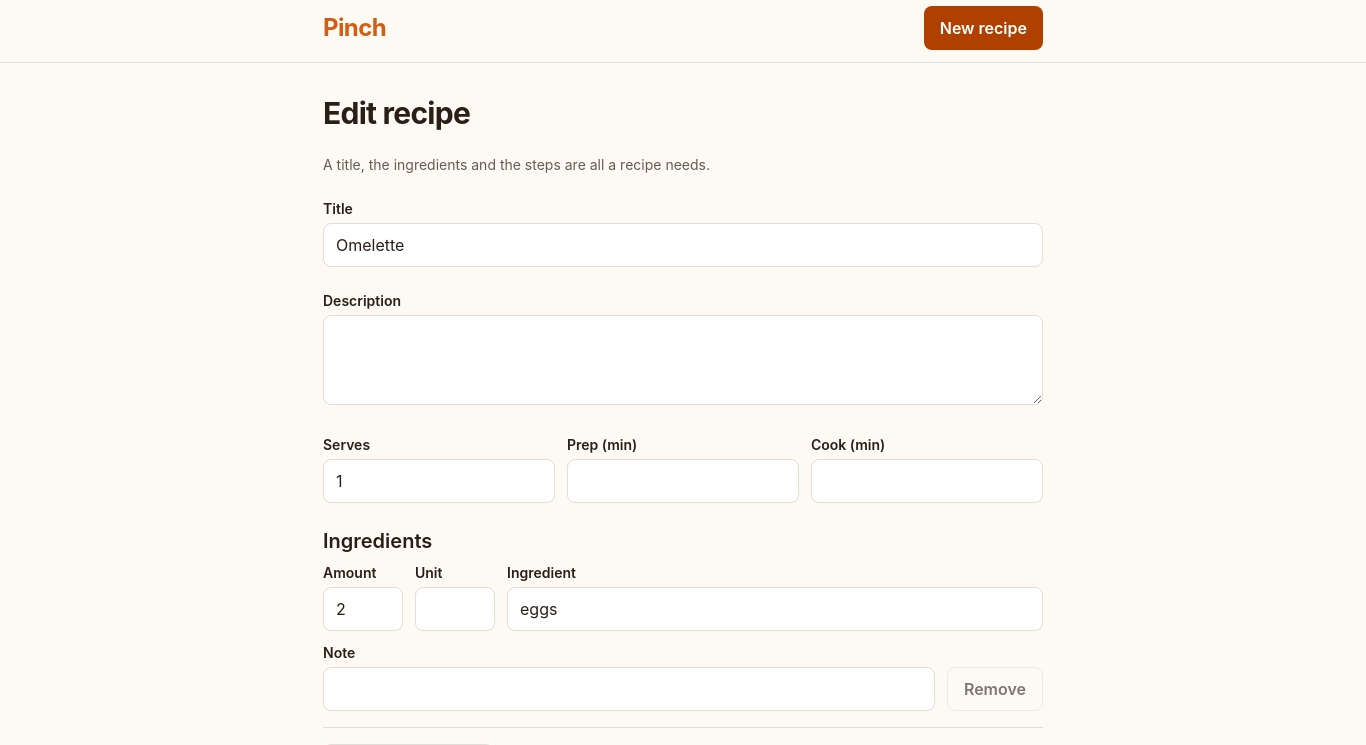
it: Cancel goes back to the recipe, unchanged
Type " with herbs" into the field labelled "Title".
click(683, 245); type(" with herbs")  # box [323, 223, 1043, 267]
(page scrolled)
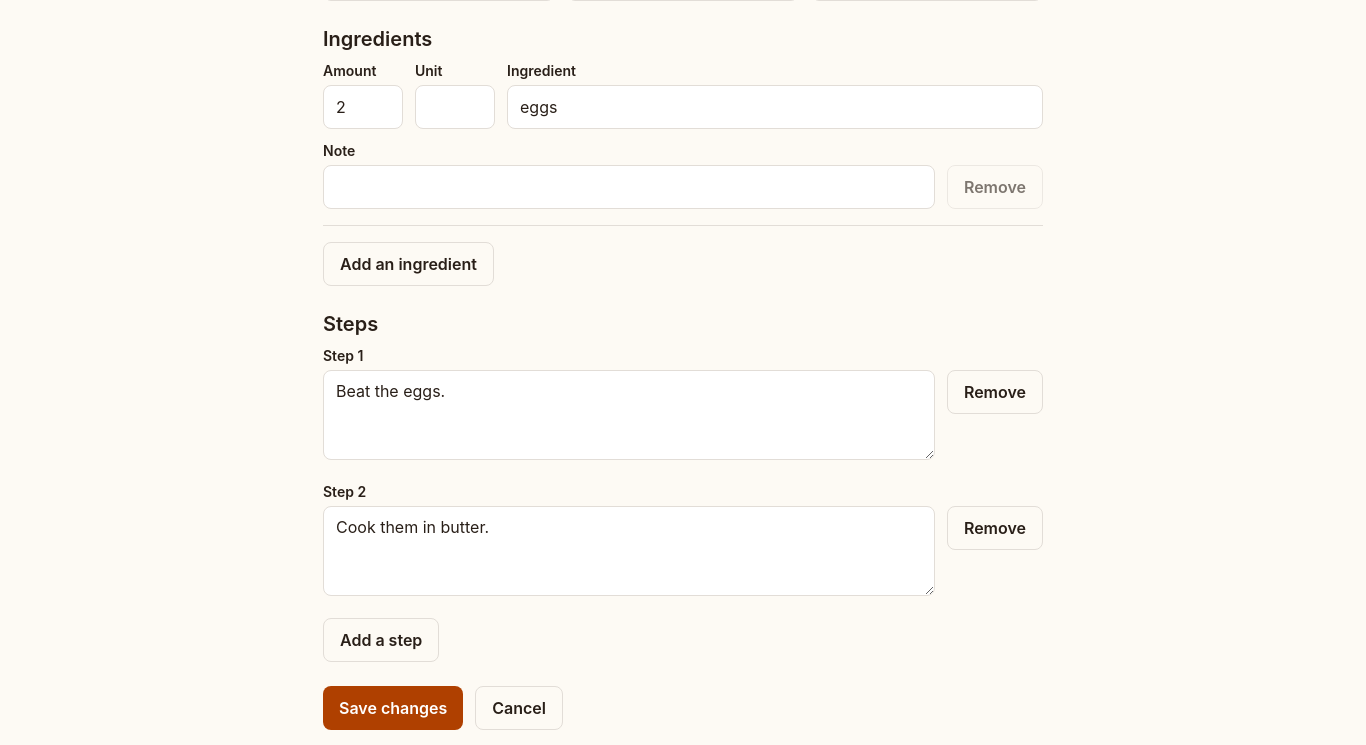
Click the link "Cancel".
click(519, 708)  # box [475, 686, 563, 730]
(page scrolled)
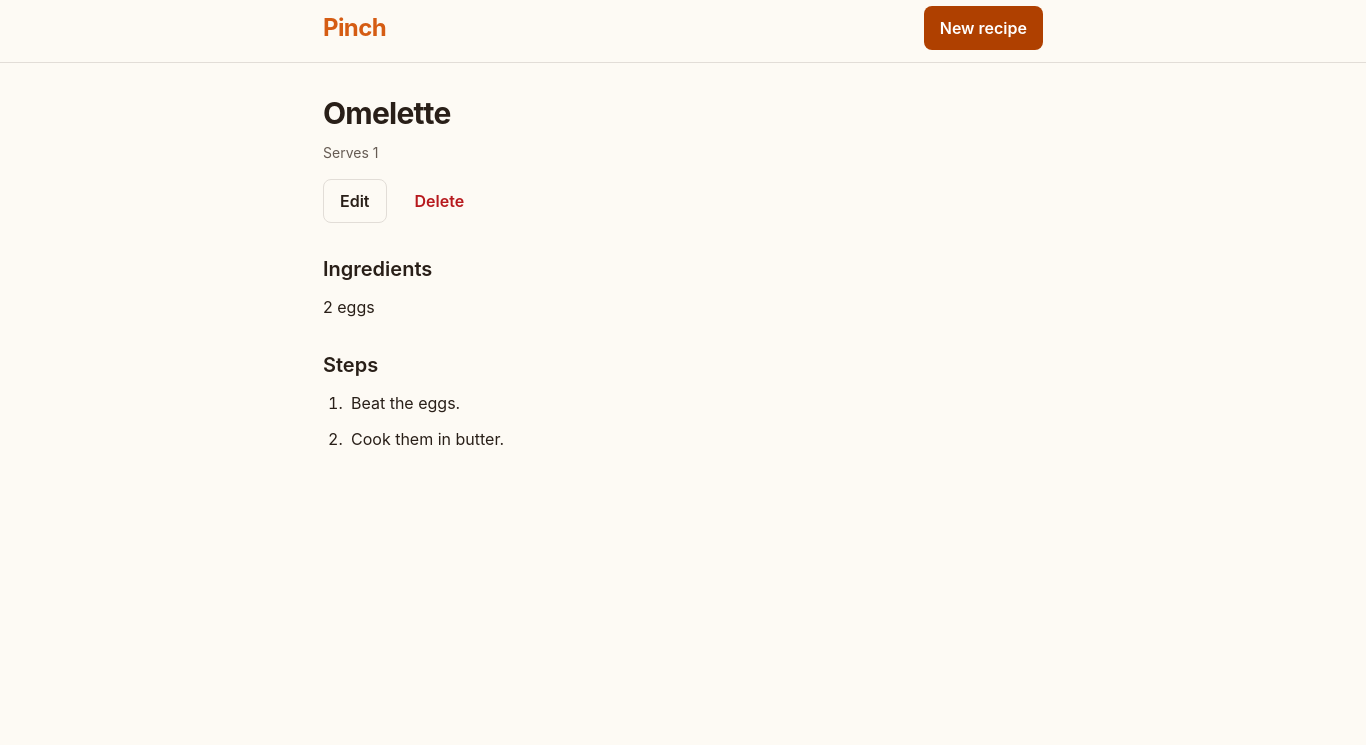
expect the heading "Omelette" is shown: met, box [323, 95, 451, 131]
